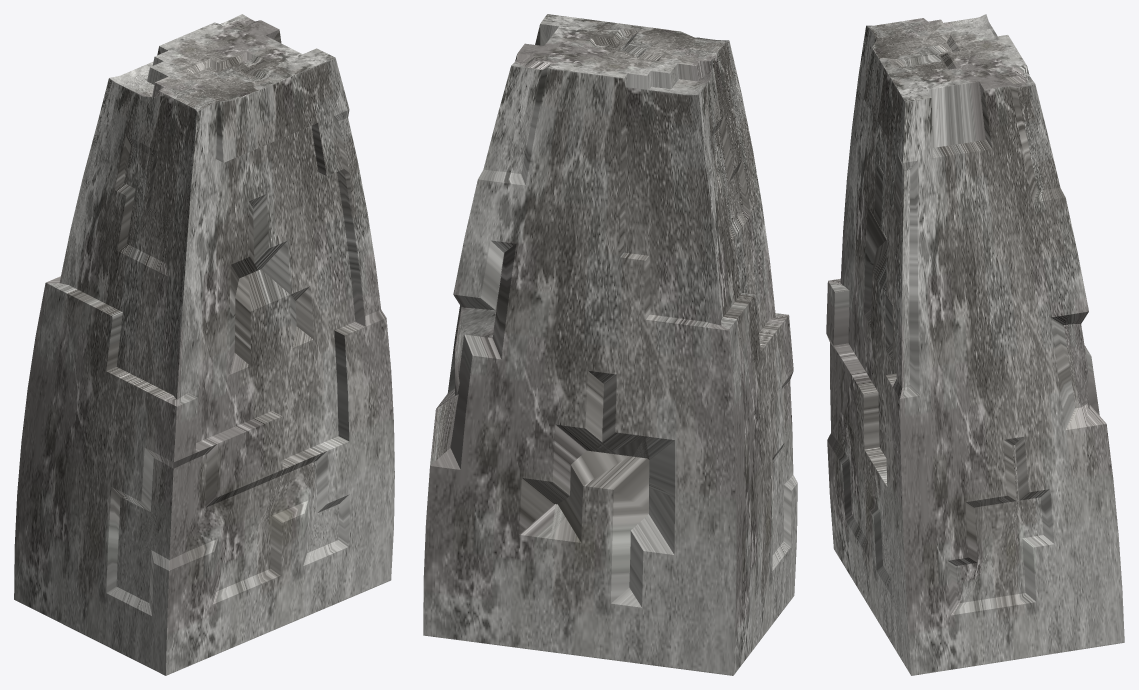
The model's file is stonehenge_gray_2.FBX.
3 renders of one model, left to right at view 1: azimuth 30°, elevation 25°; view 2: azimuth 150°, elevation 25°; view 3: azimuth 270°, elevation 25°, orthographic. The views are drawn at different scales.
Parts seen in each view (by area): view 1: Box001; view 2: Box001; view 3: Box001.
Boxes of the visible parts, x1,y1,x2,y2 form: Box001: [14, 14, 394, 675]; Box001: [423, 14, 797, 675]; Box001: [826, 14, 1124, 675].
Size of the model in its own units: 109 by 183 by 89.31.
1 material, 1 textured.
